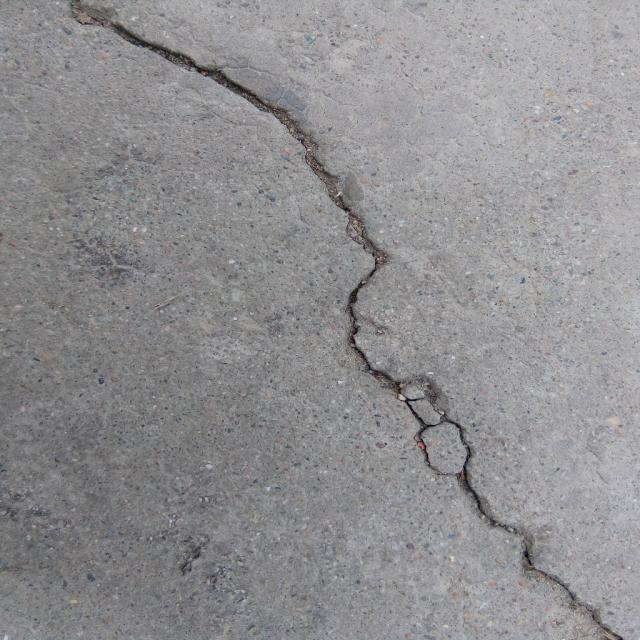cracks: (42, 0, 625, 635)
